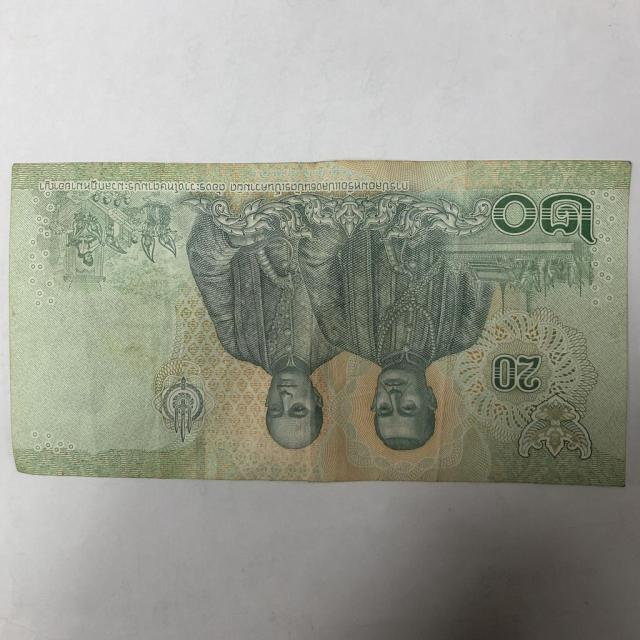THAI20: (9, 161, 631, 486)
